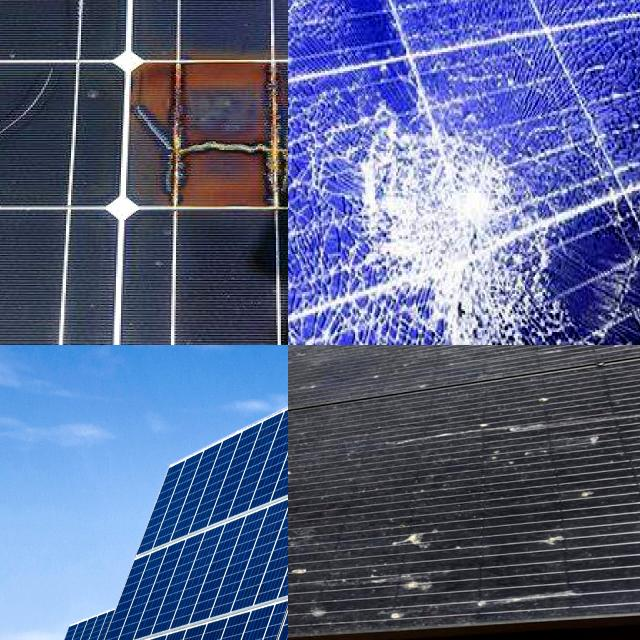bird: (366, 526, 468, 618), (450, 398, 538, 481), (565, 433, 640, 510), (452, 576, 612, 610), (288, 422, 354, 481), (288, 563, 345, 629), (518, 536, 626, 563), (288, 497, 348, 538), (552, 345, 640, 368), (288, 606, 340, 640), (321, 345, 377, 370)
crack: (152, 446, 288, 640)
hotspot: (330, 105, 573, 345), (288, 64, 311, 198)
shadow: (101, 43, 288, 222), (0, 64, 88, 203)
